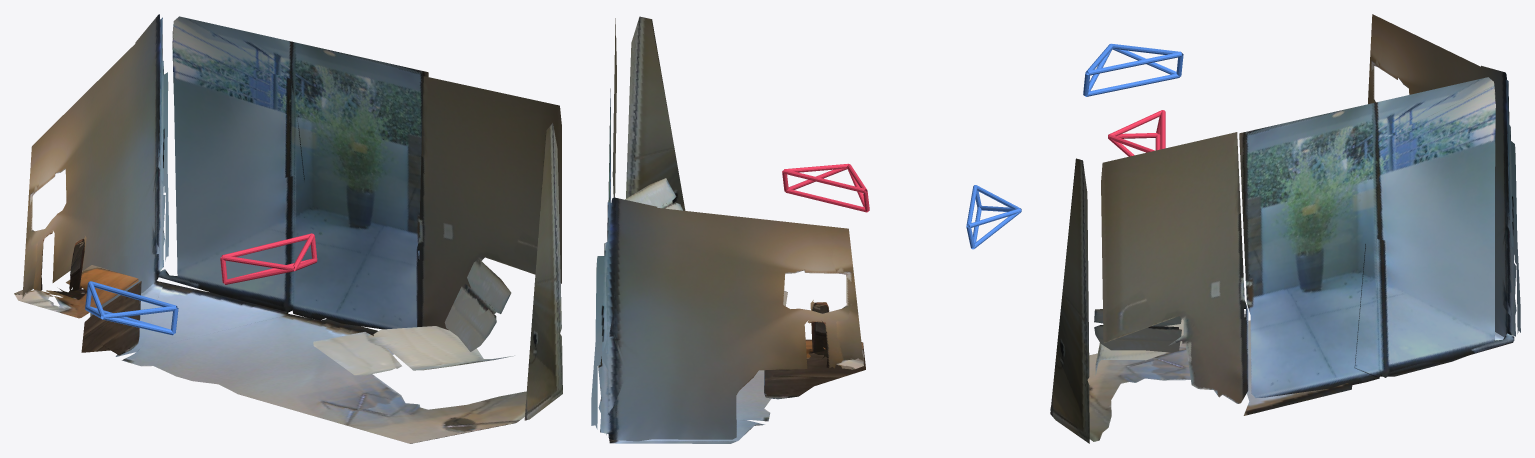
3 renders of one model, left to right at view 1: azimuth 30°, elevation 25°; view 2: azimuth 150°, elevation 25°; view 3: azimuth 270°, elevation 25°, orthographic. The views are drawn at different scales.
Visible parts, largest first — view 1: Node; view 2: Node; view 3: Node.
Boxes of the visible parts, left/top/right/bottom form: Node: left=14, top=14, right=562, bottom=443; Node: left=591, top=16, right=1021, bottom=443; Node: left=1050, top=14, right=1520, bottom=443.
Size of the model in its own units: 4.08 by 2.42 by 3.64.
Materials: 18 (16 with a texture image).
